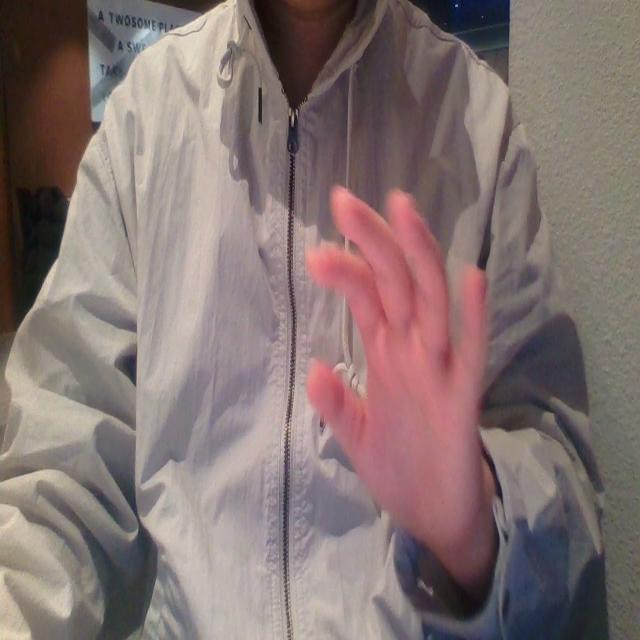hand: (289, 174, 500, 597)
